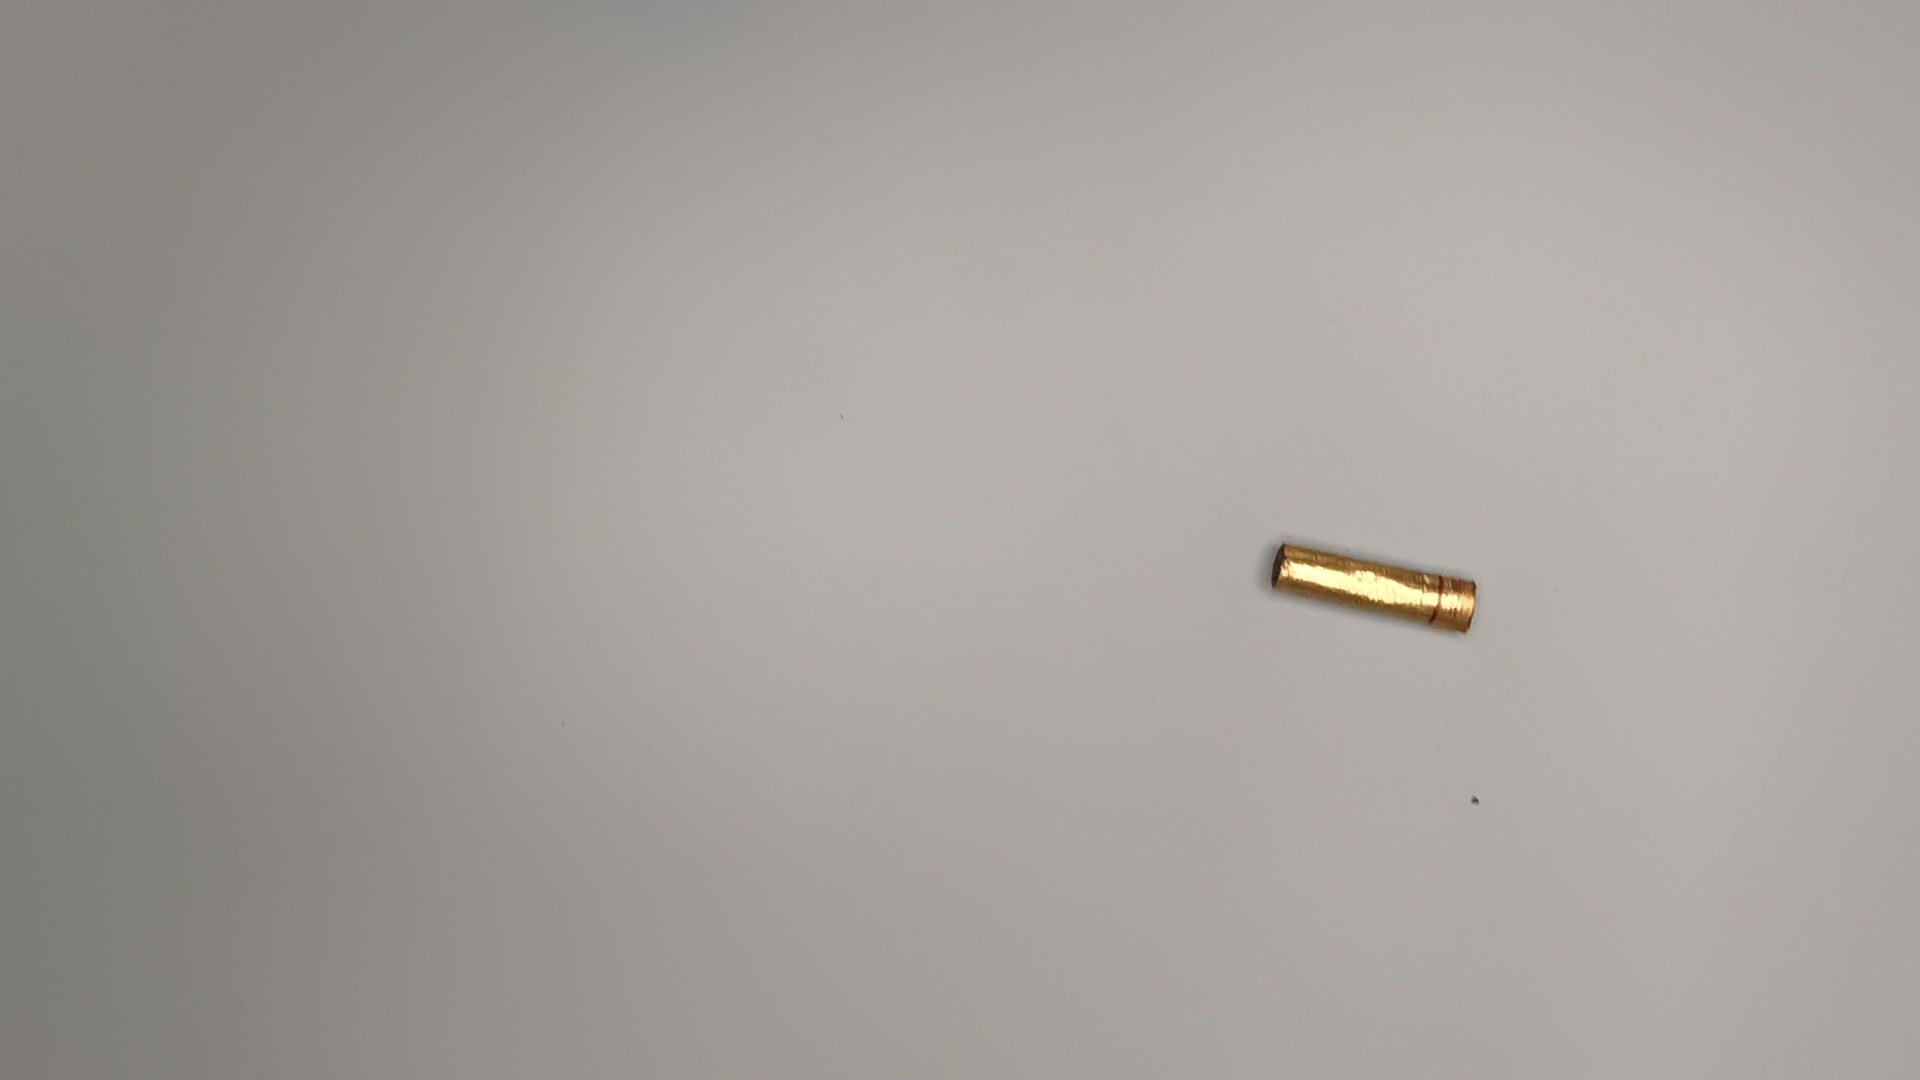cigarette: (1261, 535, 1485, 637)
